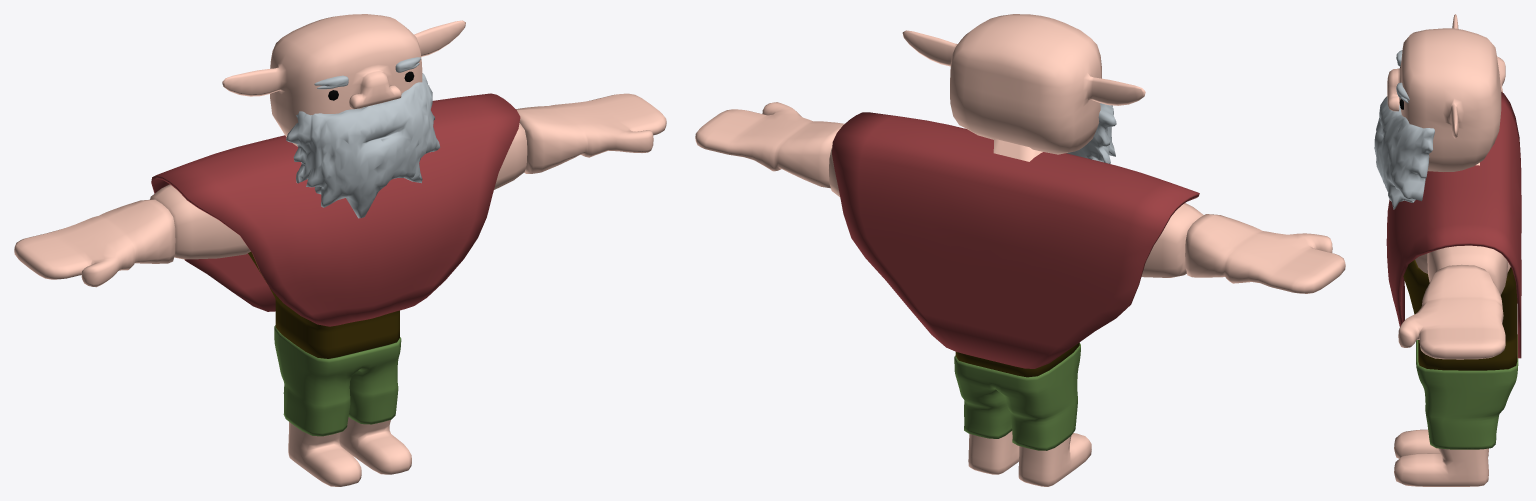
Rendered from coquena2.fbx.
3 views of the same model, side by side, from view 1: azimuth 30°, elevation 25°; view 2: azimuth 150°, elevation 25°; view 3: azimuth 270°, elevation 25° (orthographic). The views are drawn at different scales.
Parts seen in each view (by area): view 1: Poncho, Body.002, Head, Bread, Body, Pants, T-Shirt; view 2: Poncho, Head, Body.002, Pants, Body, Bread, T-Shirt; view 3: Poncho, Head, Body.002, Pants, Body, Bread, T-Shirt, Eyebrows.
Part boxes in pixels (<box>): Poncho: <box>151,93,520,326</box>; Body.002: <box>14,93,666,287</box>; Head: <box>222,14,465,146</box>; Bread: <box>286,73,440,218</box>; Body: <box>150,123,527,486</box>; Pants: <box>274,325,401,436</box>; T-Shirt: <box>248,252,399,358</box>; Poncho: <box>832,112,1199,368</box>; Head: <box>902,14,1145,154</box>; Body.002: <box>695,102,1345,293</box>; Pants: <box>954,343,1080,450</box>; Body: <box>828,138,1203,486</box>; Bread: <box>1066,103,1116,163</box>; T-Shirt: <box>955,342,1079,377</box>; Poncho: <box>1386,92,1521,358</box>; Head: <box>1387,14,1501,171</box>; Body.002: <box>1398,56,1505,359</box>; Pants: <box>1416,334,1518,449</box>; Body: <box>1394,162,1510,486</box>; Bread: <box>1374,96,1434,209</box>; T-Shirt: <box>1403,260,1517,370</box>; Eyebrows: <box>1396,50,1409,103</box>.
Size of the model in its own units: 291 by 195 by 60.95.
